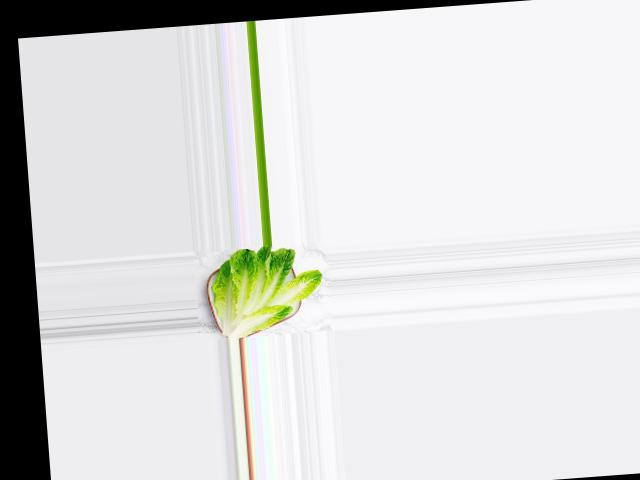lettuce: (202, 240, 328, 337)
